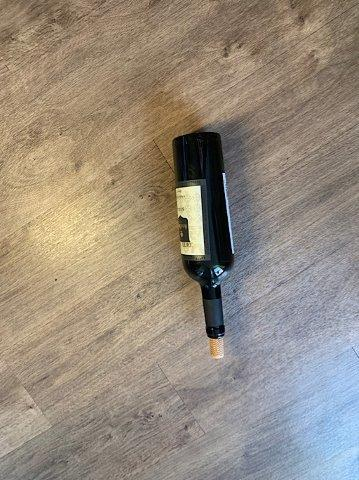botolkaca: (172, 134, 233, 358)
